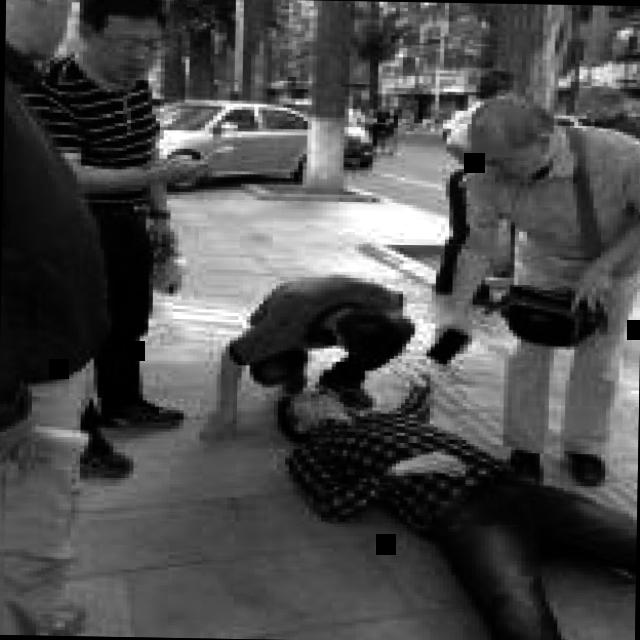Fall-Detected: (256, 350, 639, 640)
